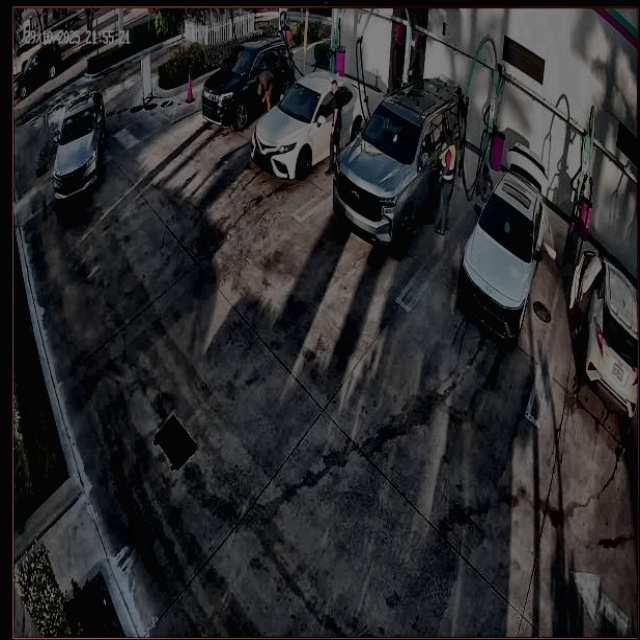Car: (336, 79, 459, 257), (459, 144, 545, 346), (253, 78, 369, 193)
